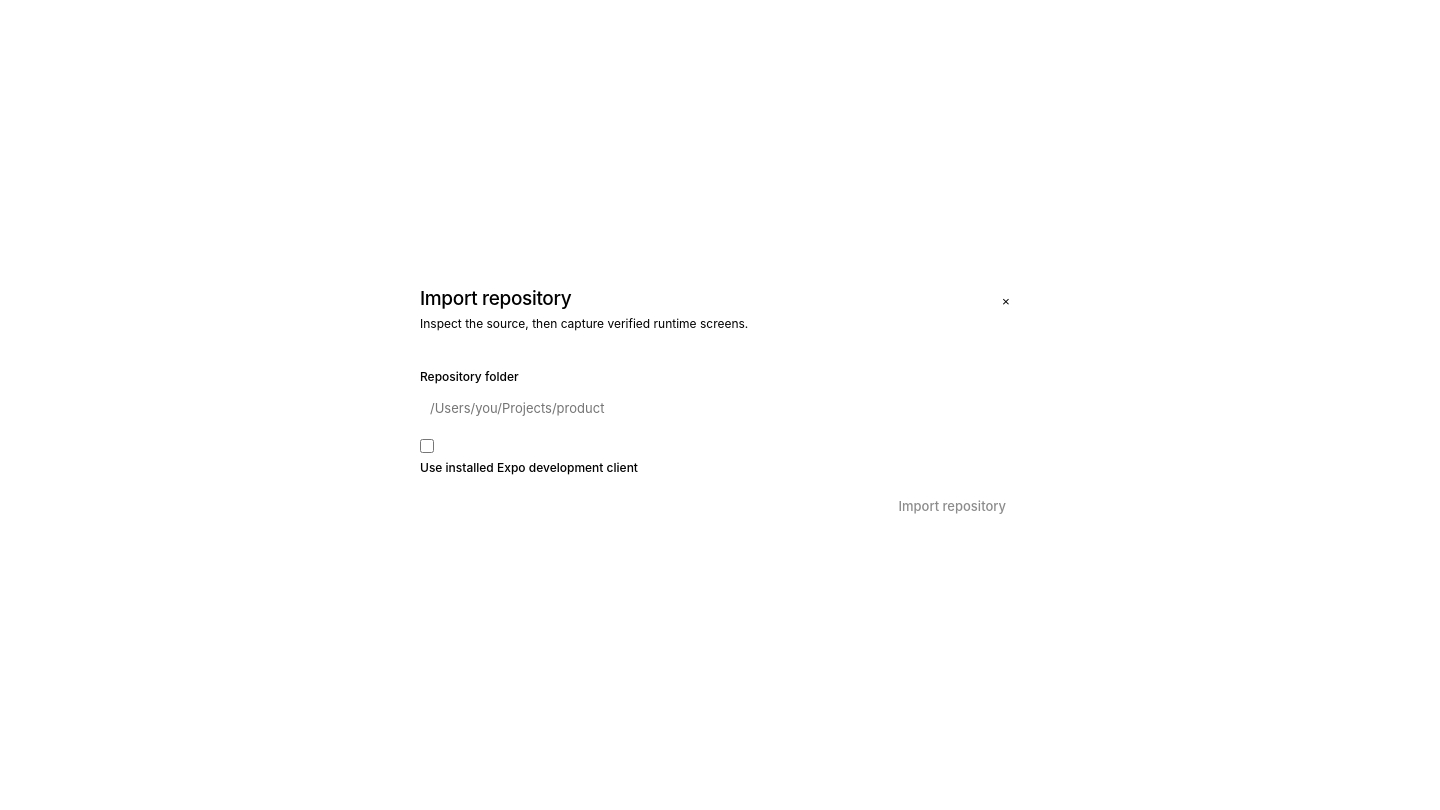
RepositoryImportDialog › shows the runtime's safe remediation when planning cannot continue
Type "/Projects/northstar" into the field labelled "Repository folder". click: (716, 408)
box: [420,391,1012,425]
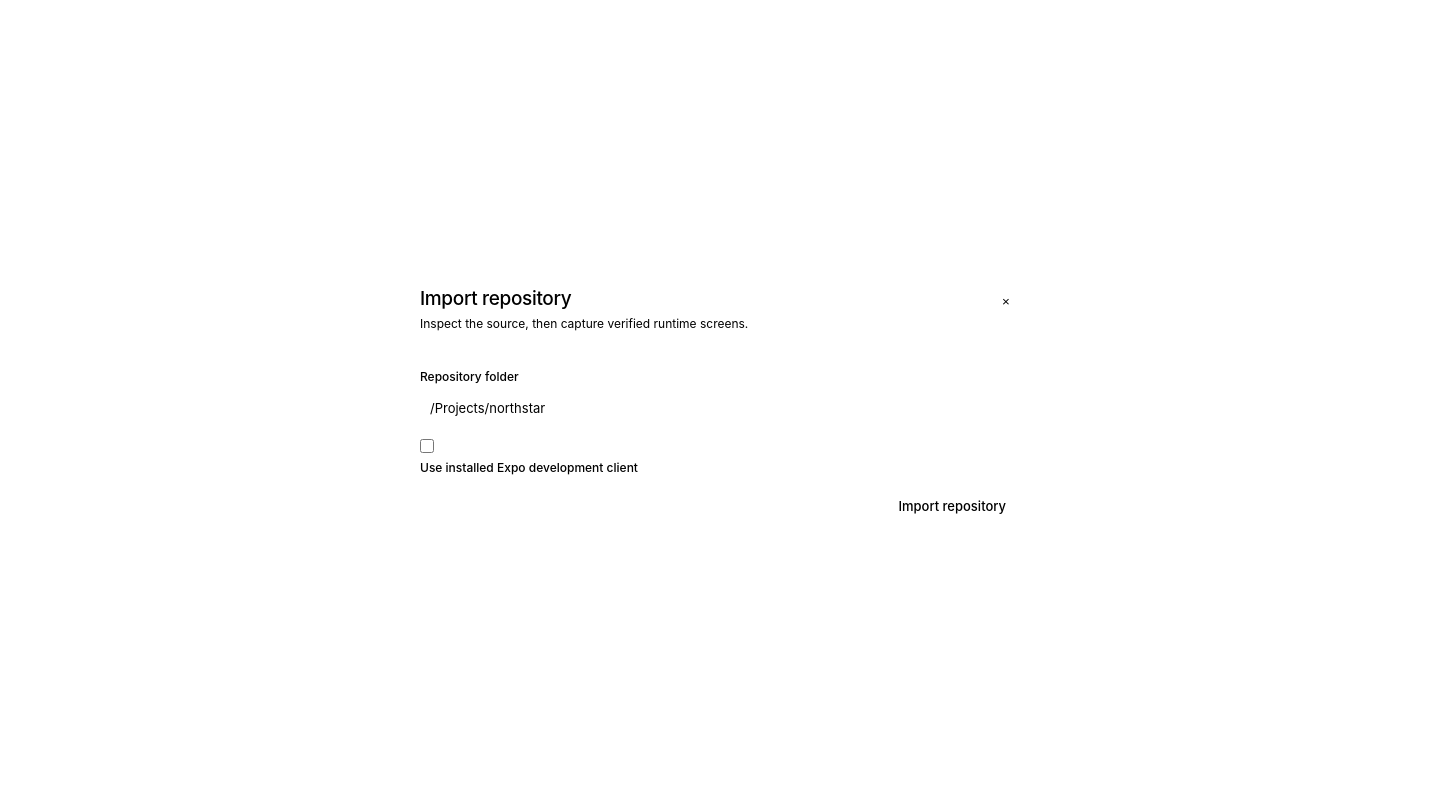
Click the button "Import repository". click: (952, 506)
box: [884,489,1020,523]
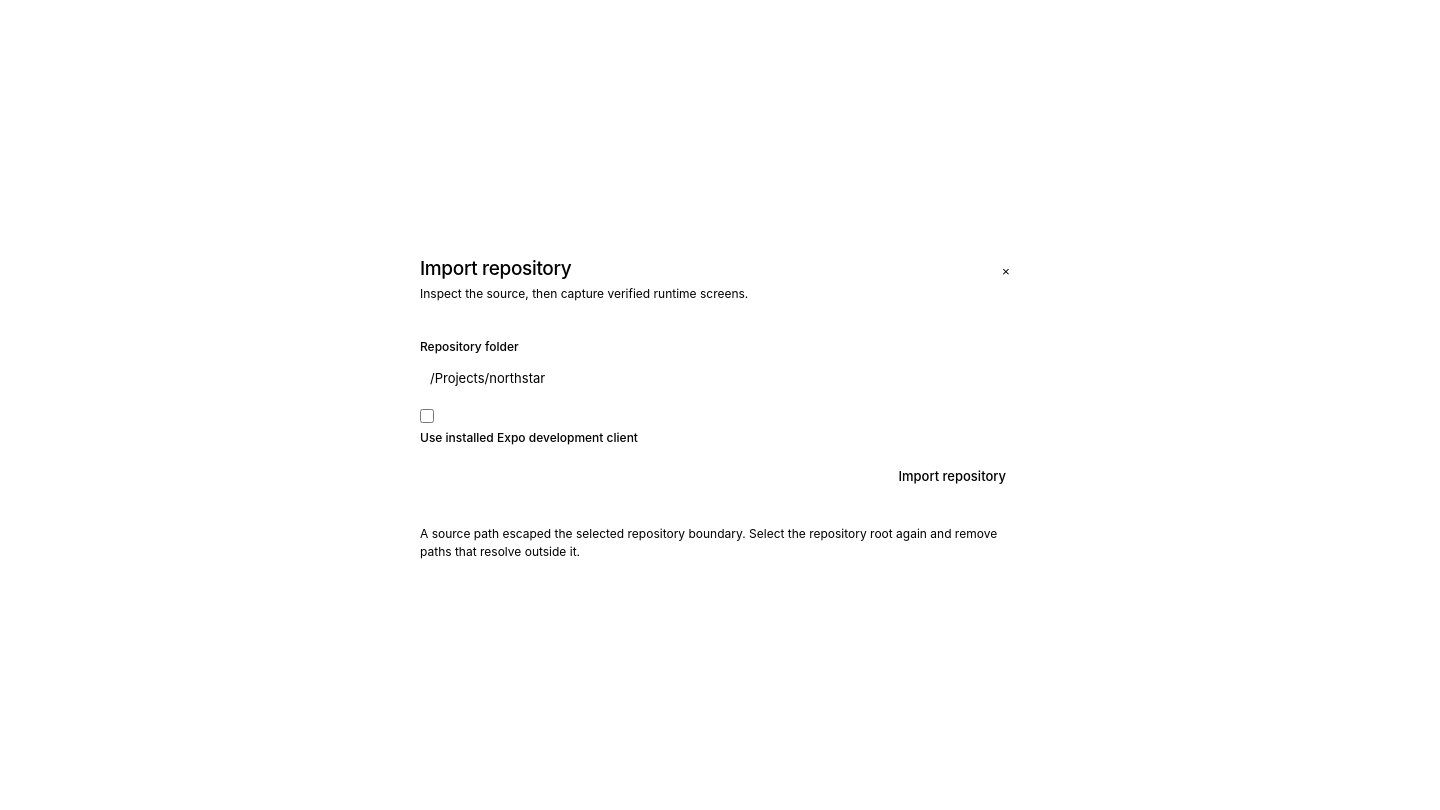
Expected: the message shows "Select the repository root again and remove paths that resolve outside it.", [420,526,997,559]
